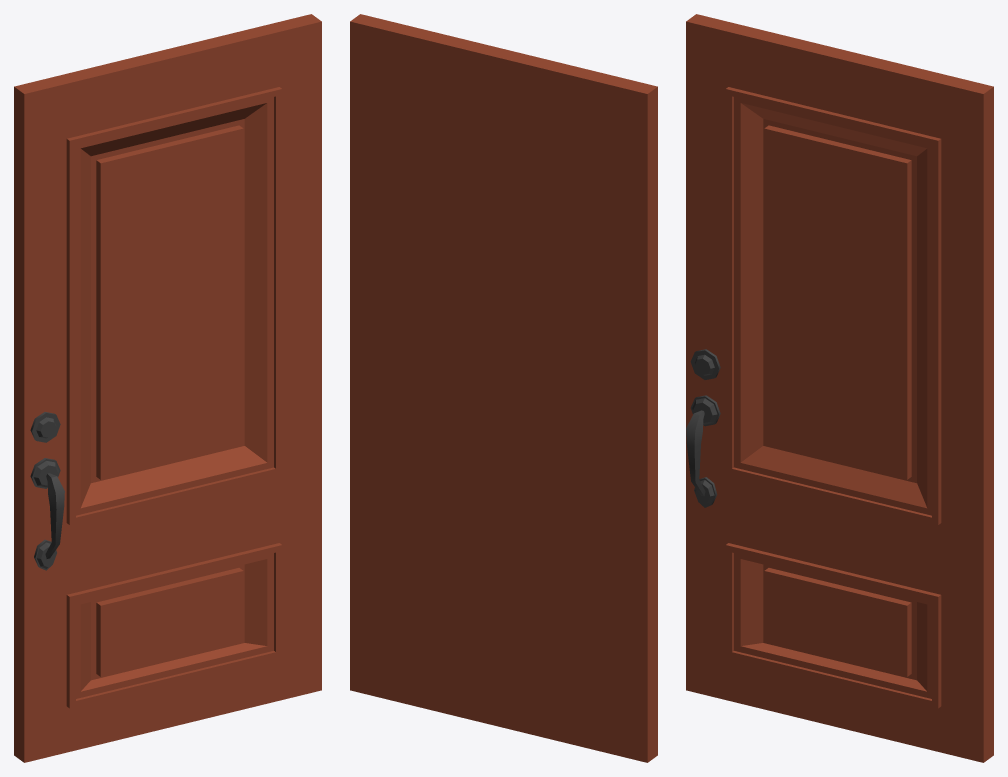
Rendered from SM_door_03.fbx.
The picture shows the model from 3 angles, left to right: view 1: azimuth 30°, elevation 25°; view 2: azimuth 150°, elevation 25°; view 3: azimuth 330°, elevation 25°; orthographic projection.
Visible parts, largest first — view 1: Box038; view 2: Box038; view 3: Box038.
Part boxes in pixels (x1,y1,x2,y2): Box038: [14, 14, 321, 762]; Box038: [350, 14, 657, 762]; Box038: [686, 14, 993, 762].
Bounding box in the file's own units: 38.42 × 82.53 × 5.81.
